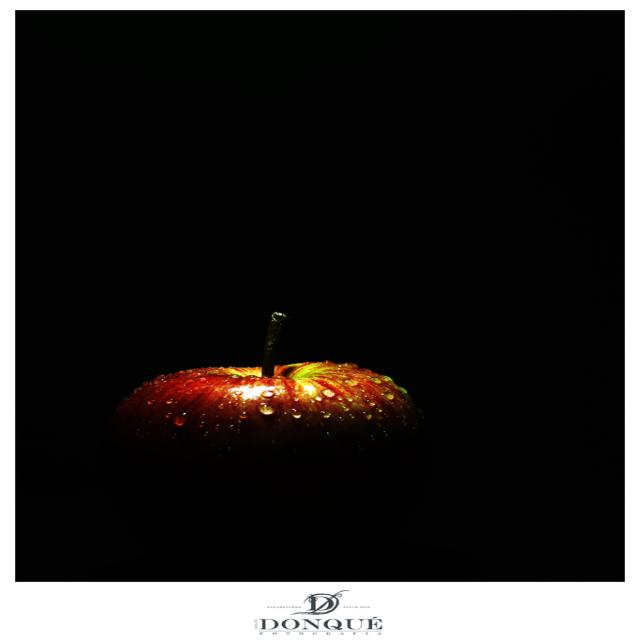Healty Apple: (111, 338, 414, 534)
